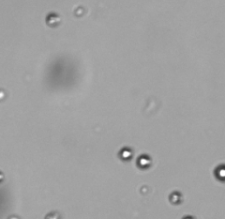Dead Cell: (46, 14, 60, 26), (170, 190, 182, 203)
Living Cell: (119, 148, 134, 161), (138, 154, 151, 168)
